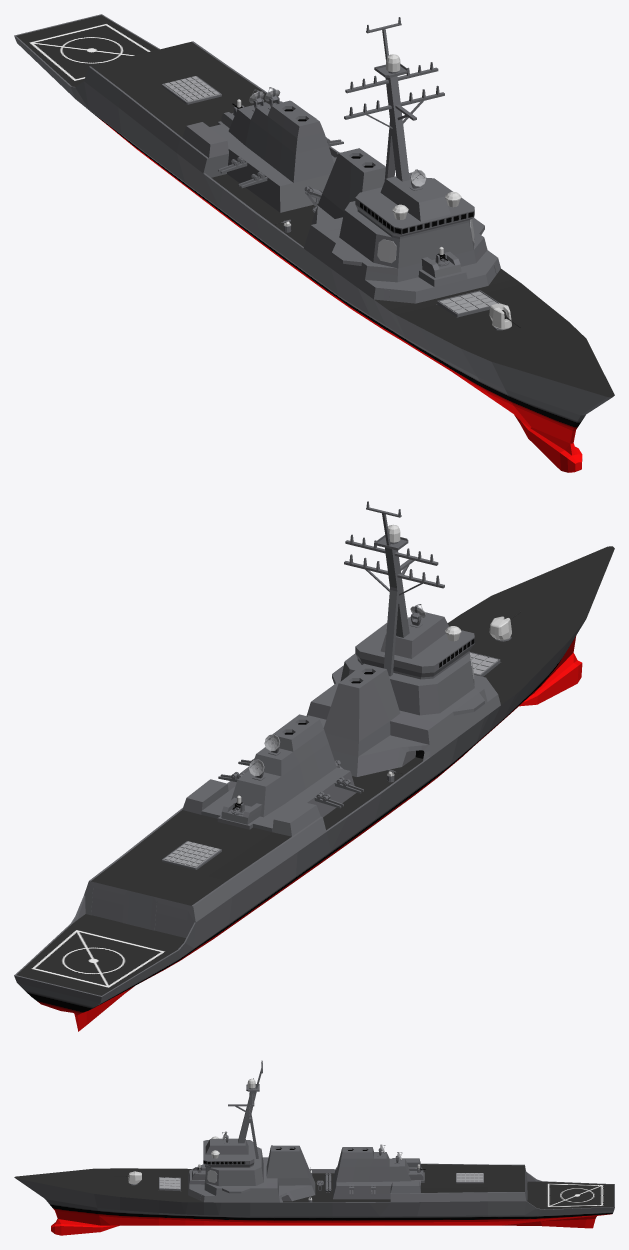
3 views of the same model, one above another, from view 1: azimuth 30°, elevation 25°; view 2: azimuth 150°, elevation 25°; view 3: azimuth 270°, elevation 25° (orthographic). The views are drawn at different scales.
Parts seen in each view (by area): view 1: Cube.016; view 2: Cube.016, Cube.022, Cube.023; view 3: Cube.016.
Part boxes in pixels (x1,y1,x2,y2): Cube.016: [14, 14, 614, 472]; Cube.016: [14, 501, 614, 1031]; Cube.022: [91, 885, 124, 922]; Cube.023: [155, 901, 187, 937]; Cube.016: [14, 1060, 614, 1235].
Size of the model in its own units: 2272 by 4780 by 15364.
